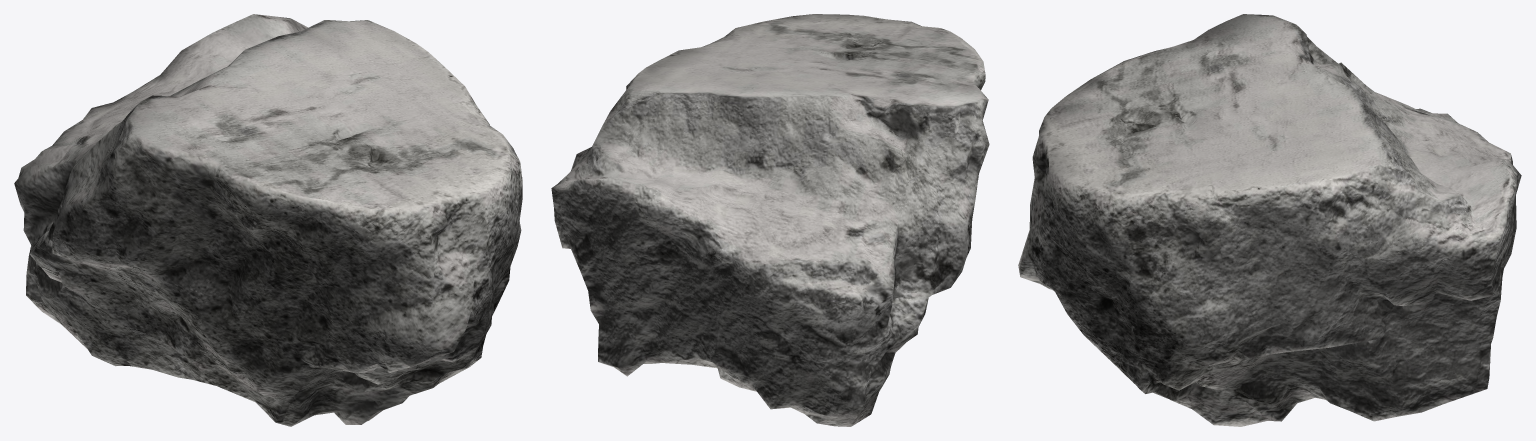
Rendered from moon-rock-a16-60025.glb.
3 renders of one model, left to right at view 1: azimuth 30°, elevation 25°; view 2: azimuth 150°, elevation 25°; view 3: azimuth 270°, elevation 25°, orthographic. The views are drawn at different scales.
Parts seen in each view (by area): view 1: moon-rock-a16-60025_LOD0; view 2: moon-rock-a16-60025_LOD0; view 3: moon-rock-a16-60025_LOD0.
Part boxes in pixels (x1,y1,x2,y2): moon-rock-a16-60025_LOD0: [14, 14, 522, 426]; moon-rock-a16-60025_LOD0: [551, 14, 989, 426]; moon-rock-a16-60025_LOD0: [1018, 14, 1521, 426].
Size of what is drawn, in the model's own units: 1.81 by 1.55 by 2.21.
Materials: 1 (1 with a texture image).
